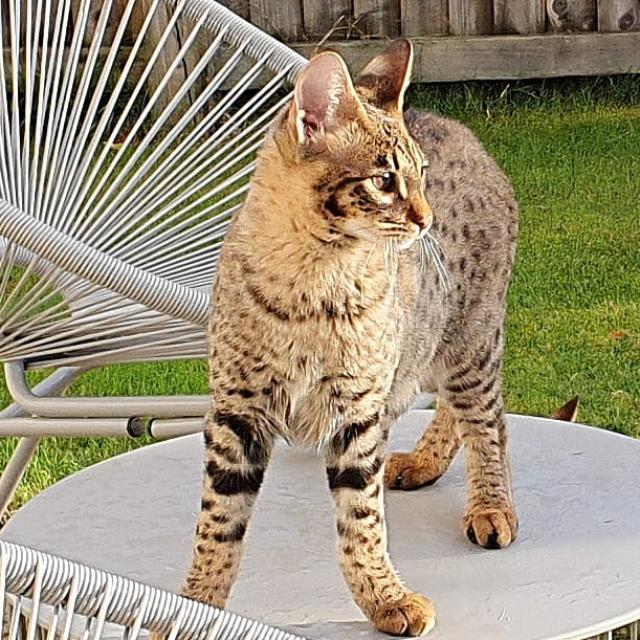Savannah: (142, 31, 522, 640)
